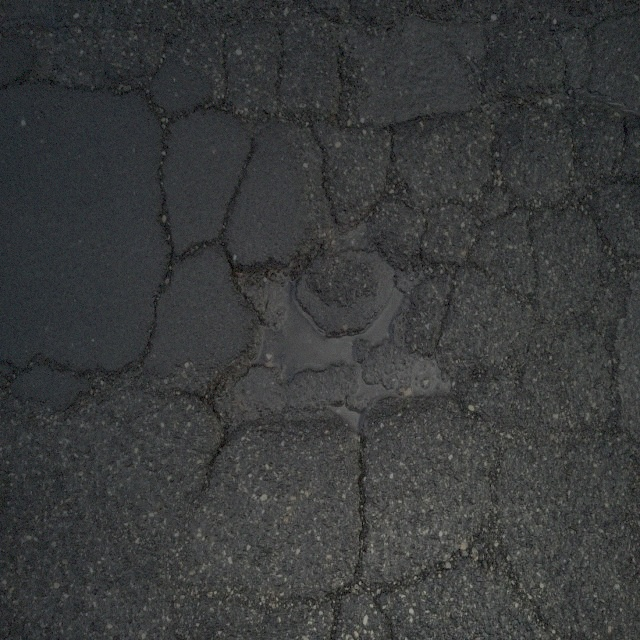pothole: (220, 248, 461, 456)
